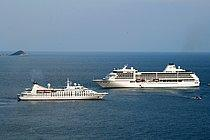Ship: (90, 61, 205, 93), (15, 80, 111, 104)
